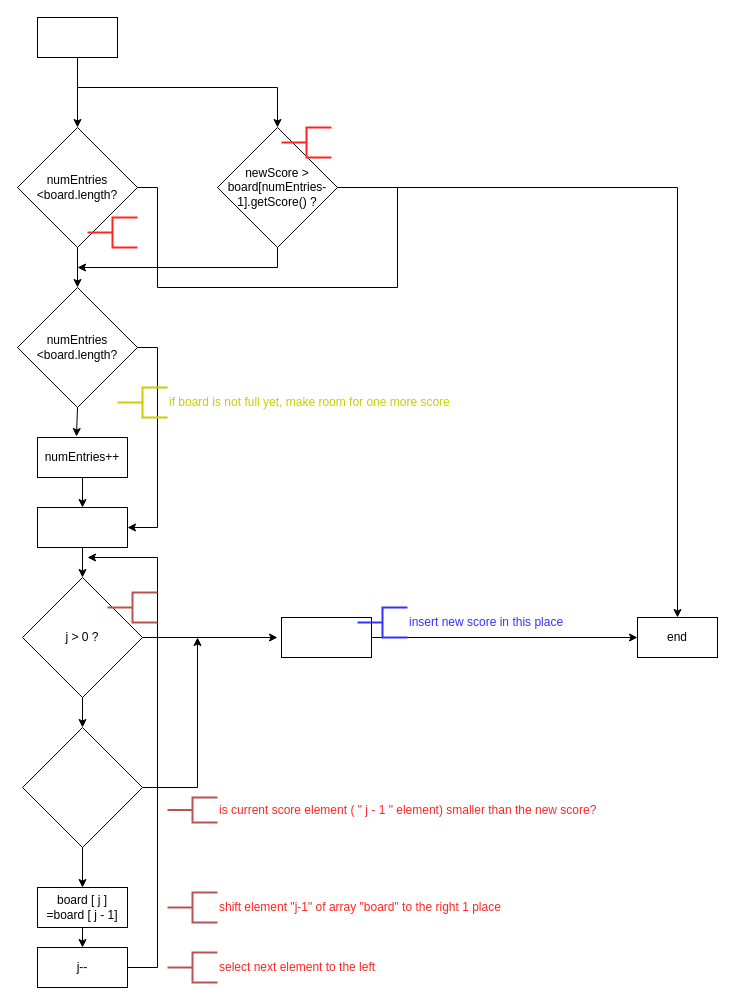
Some shapes in this 735 by 1005 pixel diagram are drawn without their labels. The box of each missing label's shape, as (x1, y1, x2, y2) in pixels:
board is not full?: (86, 216, 138, 248)
board[ j ] = e: (280, 616, 372, 658)
board[j-1].getScore() < newScore ?: (22, 726, 142, 848)
have I reached end of array?: (106, 591, 158, 623)
j = numEntries -1: (36, 506, 128, 548)
newScore = e.getScore(): (36, 16, 118, 58)
newScore is larger than last(smallest) score in board?: (280, 126, 332, 158)
